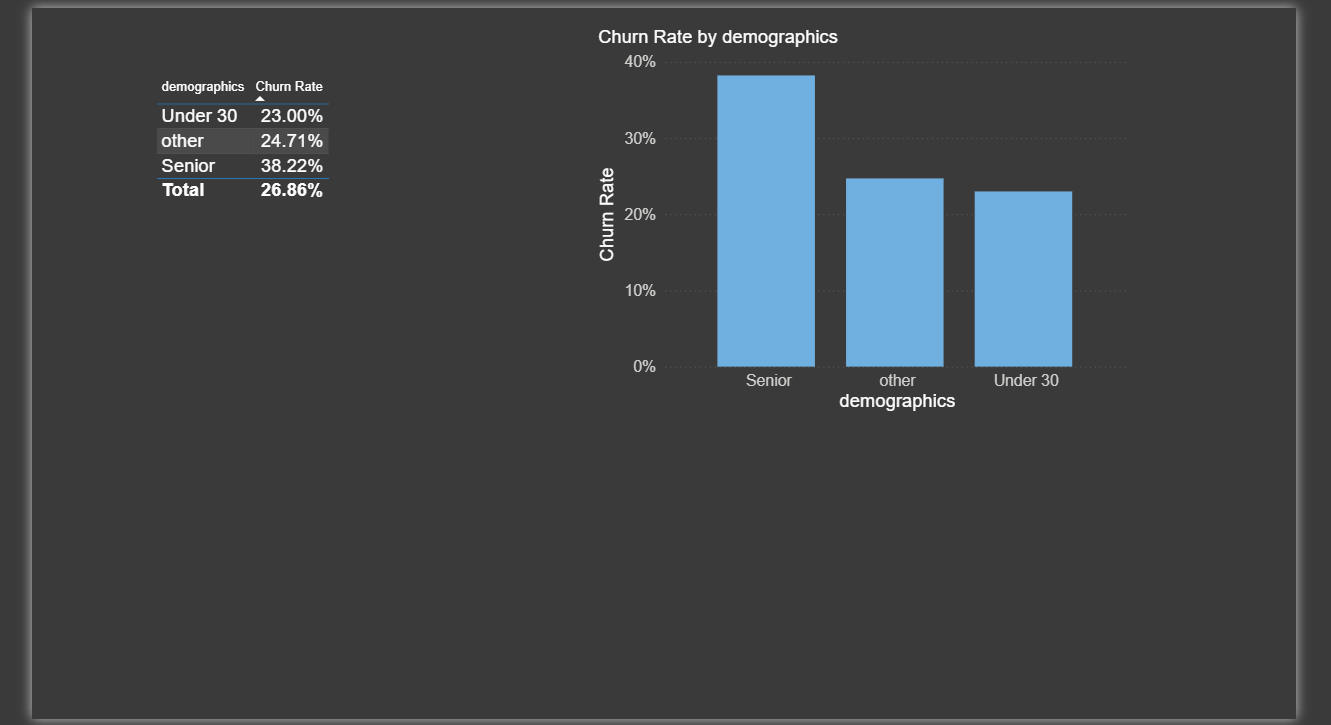

The page's visual inventory and layout, read from the dashboard file:
{"tool":"powerbi","page":{"name":"Page 3","canvas":[1280,720],"ordinal":2},"visuals":[{"type":"clusteredColumnChart","fields":{"Category":["Databel - Data.demographics"],"Y":["Databel - Data.Churn Rate"]},"box":[568.1,18.8,547.8,394.2],"z":0},{"type":"tableEx","fields":{"Values":["Databel - Data.demographics","Databel - Data.Churn Rate"]},"box":[120.3,65.2,260.9,175.4],"z":1}]}

Visuals, with their boxes on the page's 1280x720 design canvas (x1, y1, x2, y2). These are canvas units, not pixel positions in the 1331x725 screenshot, which may show the page scaled, cropped or inside an application window:
clusteredColumnChart - Databel - Data.demographics x Databel - Data.Churn Rate: {"left": 568, "top": 19, "right": 1116, "bottom": 413}
tableEx - Databel - Data.demographics x Databel - Data.Churn Rate: {"left": 120, "top": 65, "right": 381, "bottom": 241}
